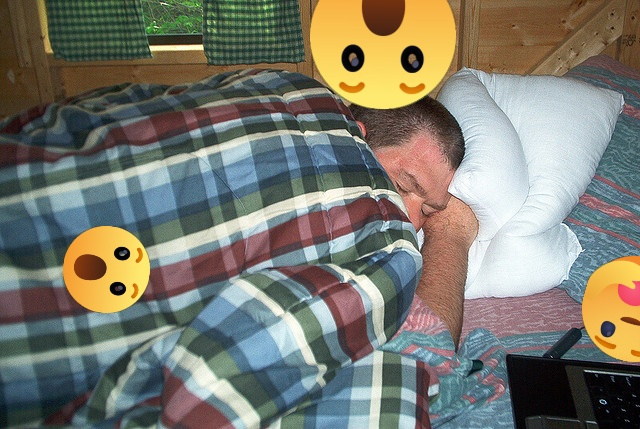care: (582, 256, 640, 362)
wow: (310, 0, 456, 109), (63, 226, 150, 313)
